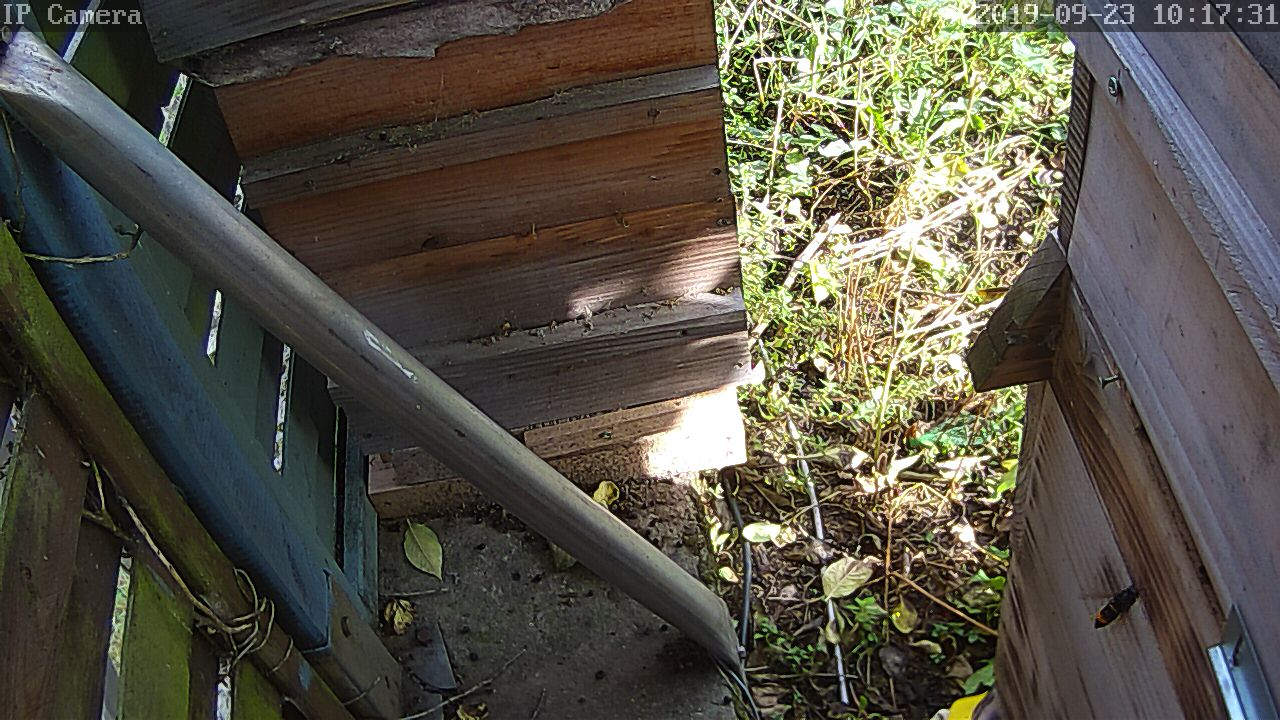hornet: (1089, 576, 1152, 635)
